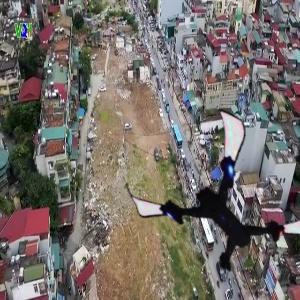drone: (134, 126, 291, 283)
